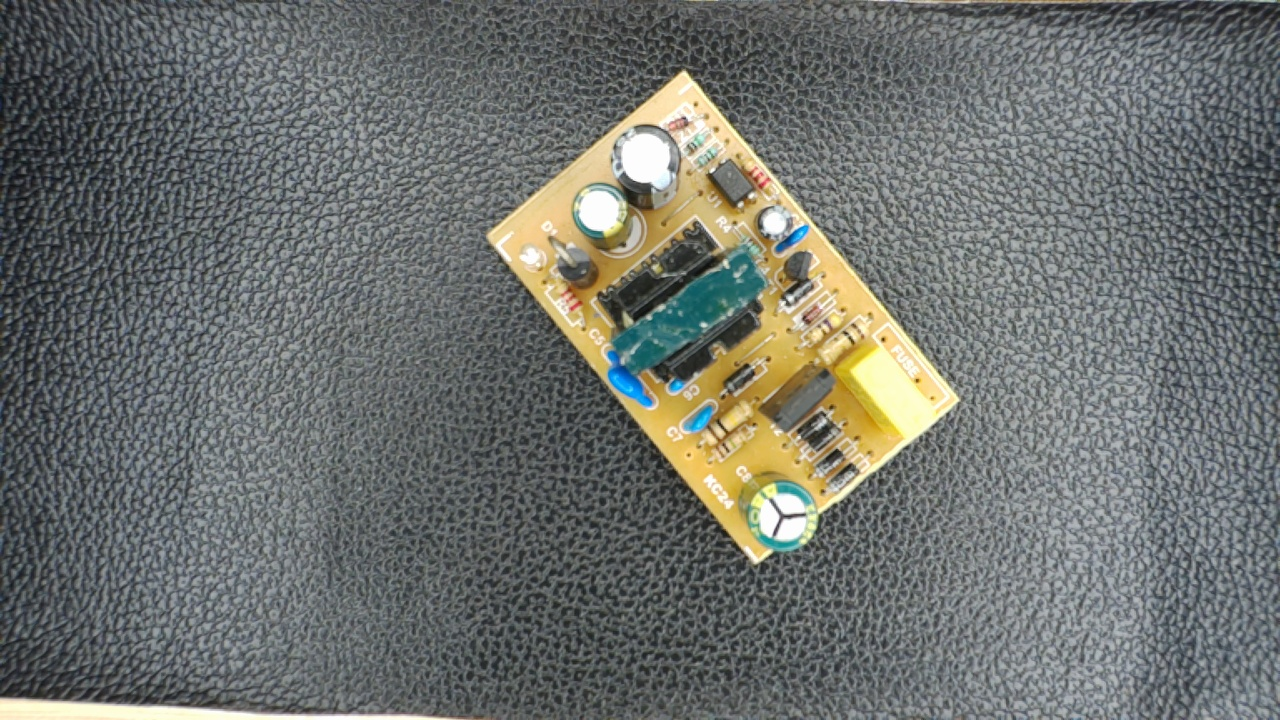hv_capacitor: (737, 470, 818, 551)
mov: (605, 347, 659, 411)
optocoupler: (704, 153, 759, 215)
